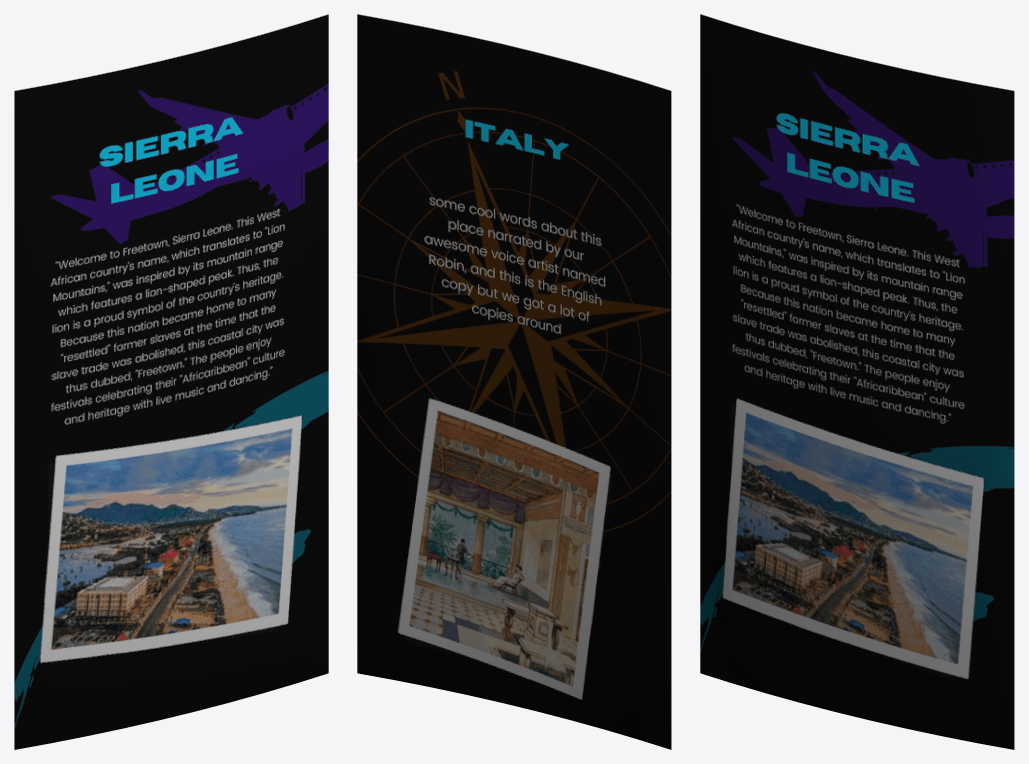
File: mdl_hub_pamphletright.gltf
3 views of the same model, side by side, from view 1: azimuth 30°, elevation 25°; view 2: azimuth 150°, elevation 25°; view 3: azimuth 330°, elevation 25° (orthographic).
Visible parts, largest first — view 1: Right; view 2: Right; view 3: Right.
Boxes of the visible parts, <box> form: Right: <box>14,14,328,749</box>; Right: <box>357,14,671,749</box>; Right: <box>700,14,1014,749</box>.
Bounding box in the file's own units: 0.187 × 0.375 × 0.00624.
Materials: 2 (2 with a texture image).
